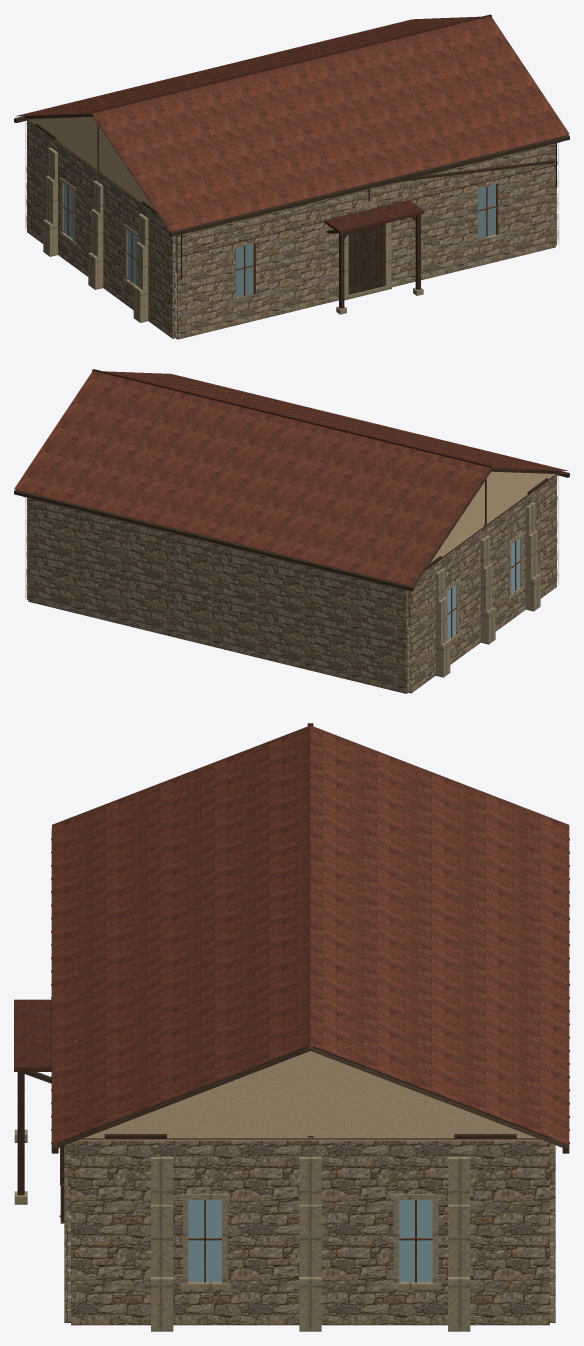
Rendered from B03_salon.gltf.
3 renders of one model, top to bottom at view 1: azimuth 30°, elevation 25°; view 2: azimuth 150°, elevation 25°; view 3: azimuth 270°, elevation 25°, orthographic. The views are drawn at different scales.
Parts seen in each view (by area): view 1: AUR034_B03_clay_tiles, AUR034_B03_lower_masonry, B03_runtime_static_076, B03_runtime_static_000, B03_runtime_static_137, AUR034_B03_porch_clay_roof, AUR034_B03_entry_leaf1, B03_runtime_static_105, AUR034_B03_entry_leaf0, AUR034_B03_ridge, AUR034_B03_window1_glazing, AUR034_B03_window0_glazing (+1 smaller); view 2: AUR034_B03_clay_tiles, AUR034_B03_lower_masonry, B03_runtime_static_076, B03_runtime_static_000, B03_runtime_static_137, AUR034_B03_ridge, B03_runtime_static_139; view 3: AUR034_B03_clay_tiles, AUR034_B03_lower_masonry, B03_runtime_static_137, B03_runtime_static_076, B03_runtime_static_000, B03_runtime_static_139, AUR034_B03_porch_clay_roof.
Boxes of the visible parts, x1=… form: AUR034_B03_clay_tiles: x1=15, y1=16, x2=569, y2=231; AUR034_B03_lower_masonry: x1=27, y1=120, x2=556, y2=339; B03_runtime_static_076: x1=26, y1=147, x2=557, y2=337; B03_runtime_static_000: x1=14, y1=113, x2=569, y2=308; B03_runtime_static_137: x1=28, y1=117, x2=152, y2=207; AUR034_B03_porch_clay_roof: x1=324, y1=199, x2=424, y2=234; AUR034_B03_entry_leaf1: x1=366, y1=223, x2=385, y2=290; B03_runtime_static_105: x1=62, y1=143, x2=556, y2=298; AUR034_B03_entry_leaf0: x1=348, y1=228, x2=366, y2=294; AUR034_B03_ridge: x1=92, y1=14, x2=491, y2=115; AUR034_B03_window1_glazing: x1=477, y1=184, x2=495, y2=238; AUR034_B03_window0_glazing: x1=235, y1=243, x2=253, y2=297; AUR034_B03_clay_tiles: x1=14, y1=371, x2=568, y2=585; AUR034_B03_lower_masonry: x1=27, y1=475, x2=556, y2=693; B03_runtime_static_076: x1=26, y1=502, x2=557, y2=692; B03_runtime_static_000: x1=14, y1=468, x2=569, y2=591; B03_runtime_static_137: x1=431, y1=471, x2=555, y2=562; AUR034_B03_ridge: x1=92, y1=369, x2=491, y2=470; B03_runtime_static_139: x1=447, y1=538, x2=520, y2=639; AUR034_B03_clay_tiles: x1=52, y1=725, x2=569, y2=1144; AUR034_B03_lower_masonry: x1=64, y1=1140, x2=555, y2=1325; B03_runtime_static_137: x1=78, y1=1051, x2=542, y2=1140; B03_runtime_static_076: x1=14, y1=1129, x2=554, y2=1331; B03_runtime_static_000: x1=17, y1=828, x2=569, y2=1223; B03_runtime_static_139: x1=188, y1=1200, x2=432, y2=1281; AUR034_B03_porch_clay_roof: x1=14, y1=999, x2=51, y2=1071.
Bounding box in the file's own units: 19.04 × 7.99 × 13.93.
11 materials, 9 textured.
